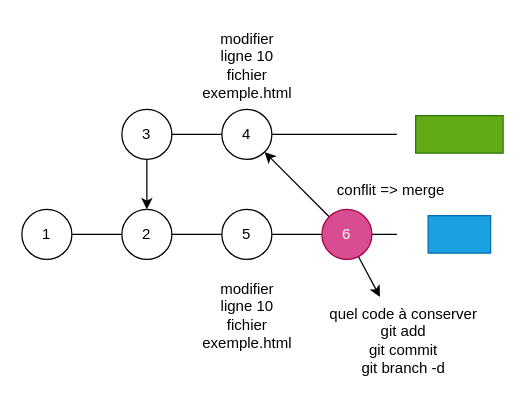
Image size: 525x405. Some labels were removed from this diagram. Here are the shapes that lost their labels. From the top down, the box of each, then its label:
(414, 114, 503, 153): fonction
(427, 214, 491, 253): main
